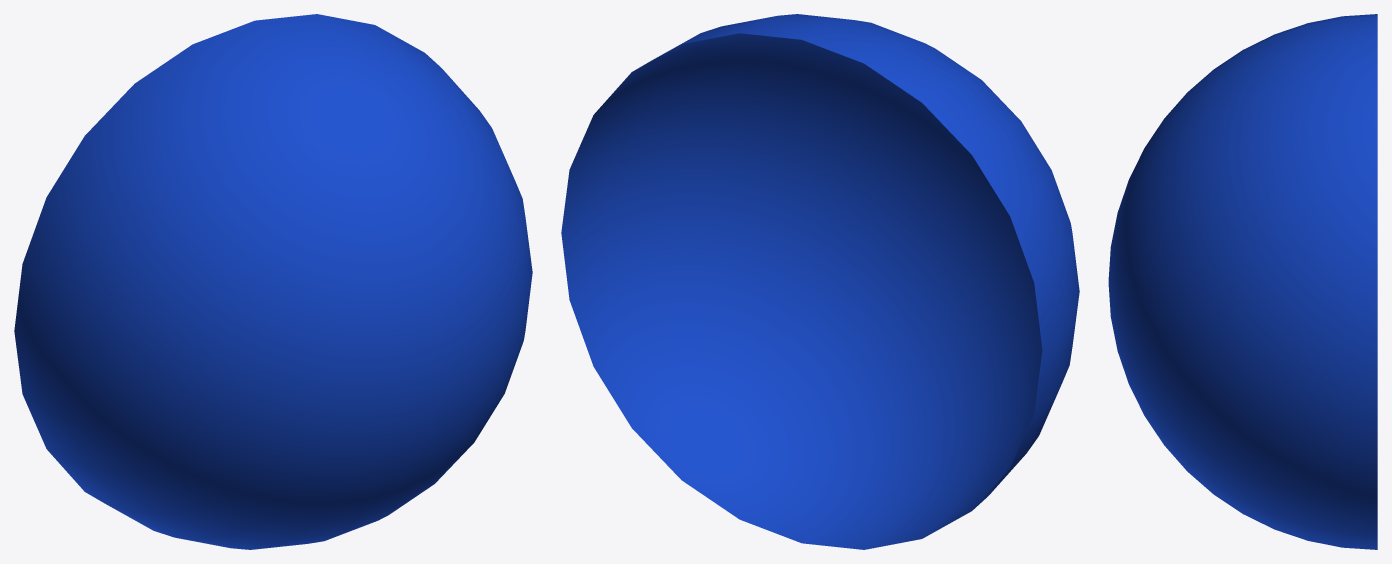
The model's file is hemisphere.dae.
The picture shows the model from 3 angles, left to right: view 1: azimuth 30°, elevation 25°; view 2: azimuth 150°, elevation 25°; view 3: azimuth 270°, elevation 25°; orthographic projection. The views are drawn at different scales.
Parts seen in each view (by area): view 1: hemisphere; view 2: hemisphere; view 3: hemisphere.
Part boxes in pixels (<box>): hemisphere: <box>14,14,532,549</box>; hemisphere: <box>561,14,1079,549</box>; hemisphere: <box>1108,14,1377,549</box>.
Size of the model in its own units: 0.06 by 0.06 by 0.03.
